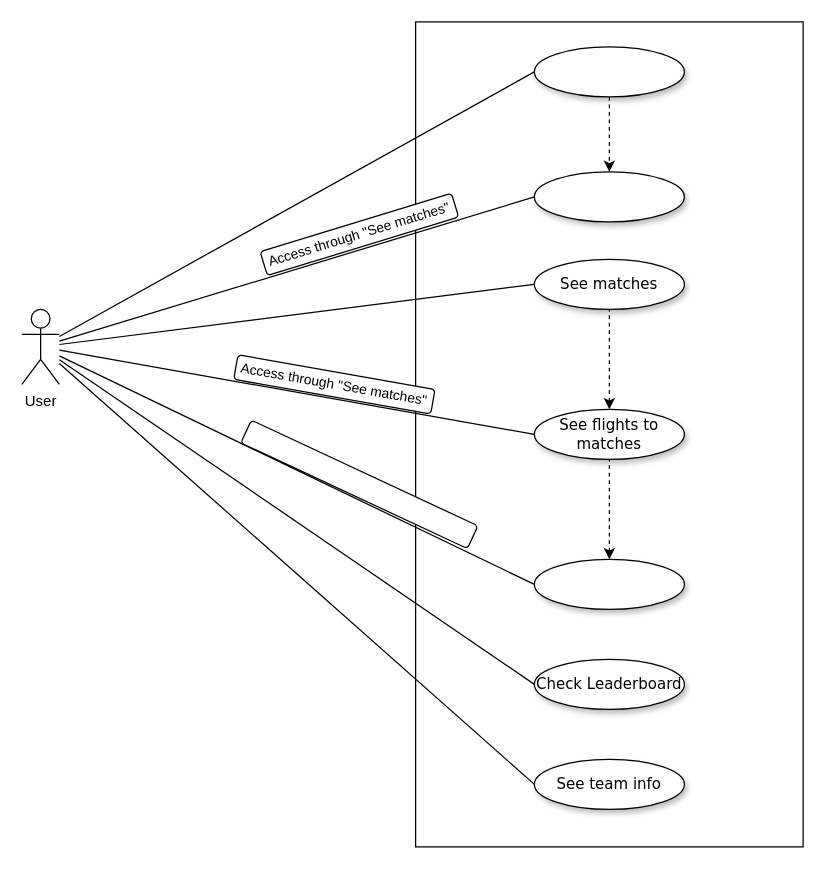
The diagram is 825 pixels wide and 869 high, and some of its shapes have lost their labels. The shapes that lost their labels are listed below. From the top down, each one's centre as x and y in pixels, then its label:
[610,73]: Select team
[610,198]: Follow Team
[358,484]: Access through "See flights to matches"
[610,585]: Buy ticket to flight
